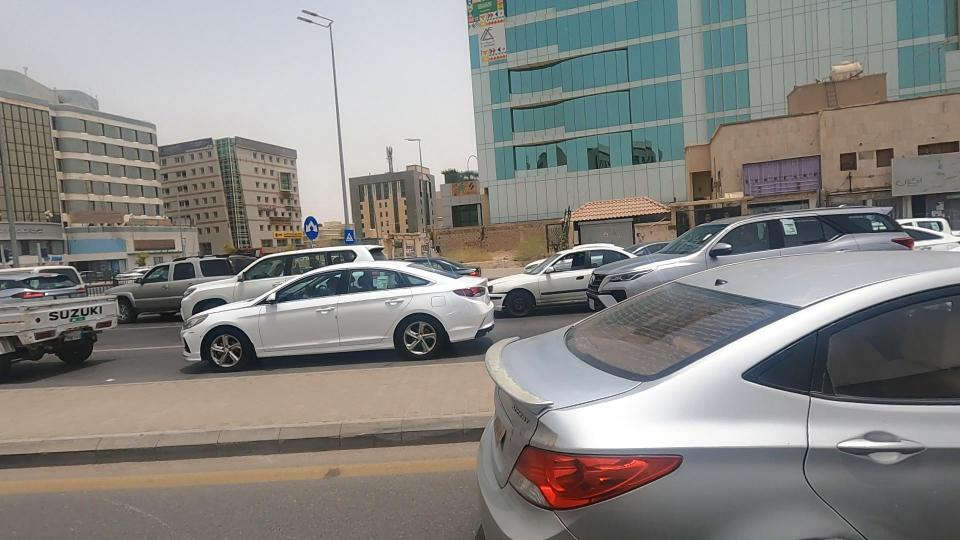BAD_BILLBOARD: (678, 110, 880, 246), (840, 126, 960, 229)
